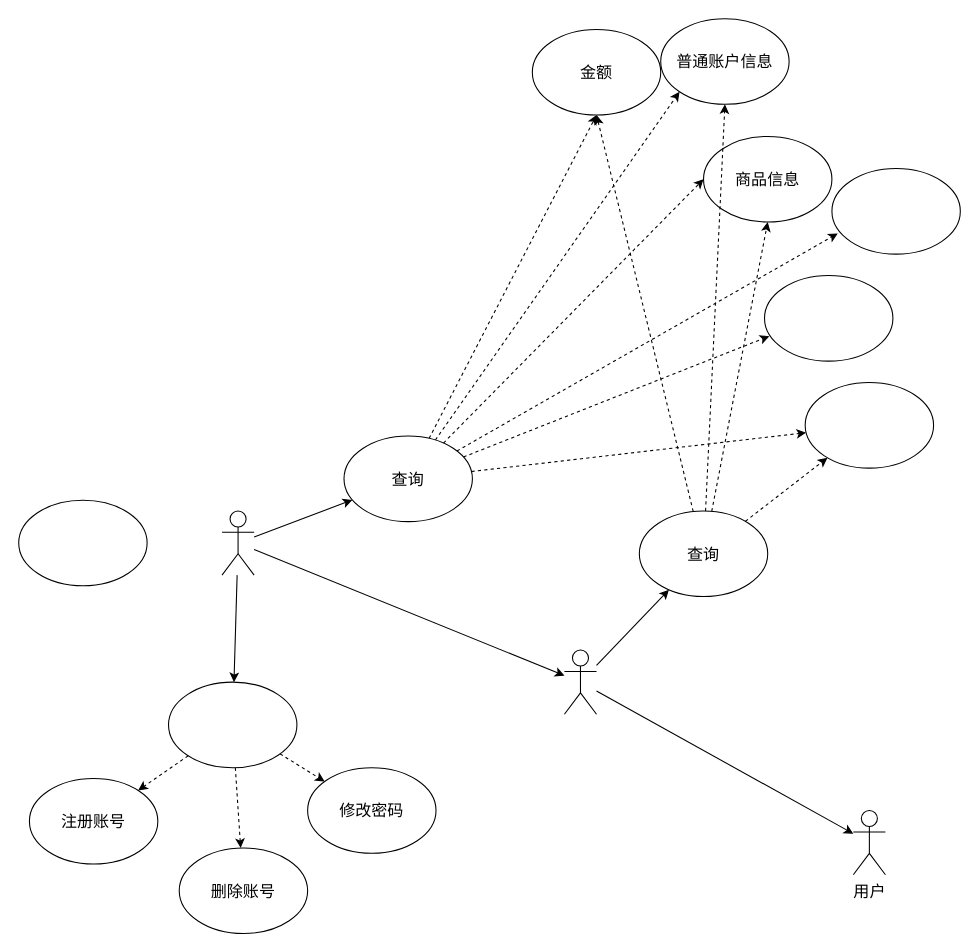
The diagram is 979 pixels wide and 952 high, and some of its shapes have lost their labels. The centre of each missing label's shape, as x and y in pixels:
修改: point 82,542
普通账户: point 580,681
管理员: point 237,542
账号操作: point 232,724
